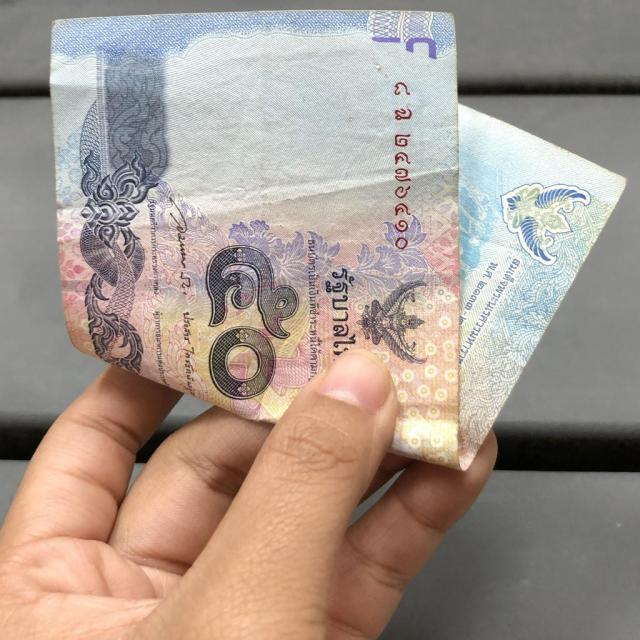THAI50: (50, 10, 624, 469)
